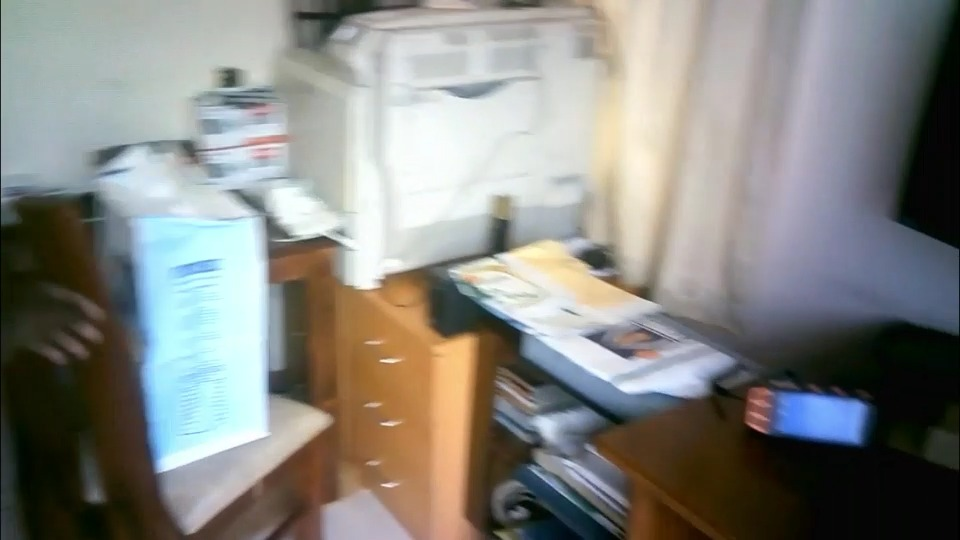wheat_flour_blue_label: (96, 167, 270, 480)
